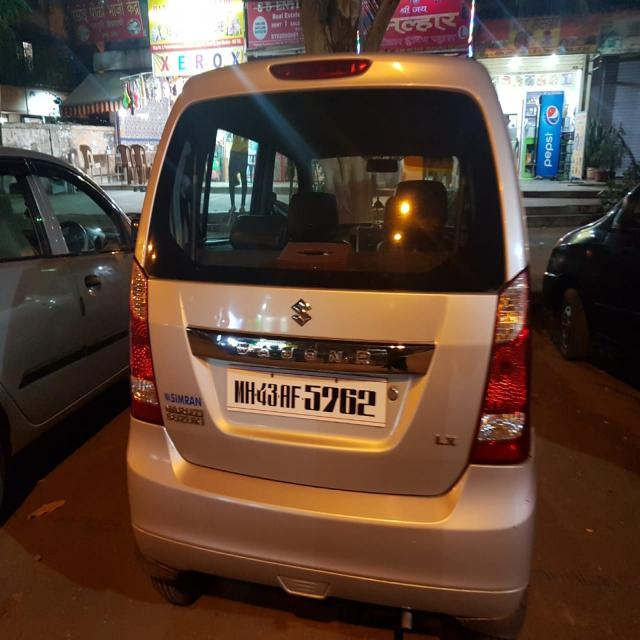Number-Plate: (232, 370, 384, 419)
